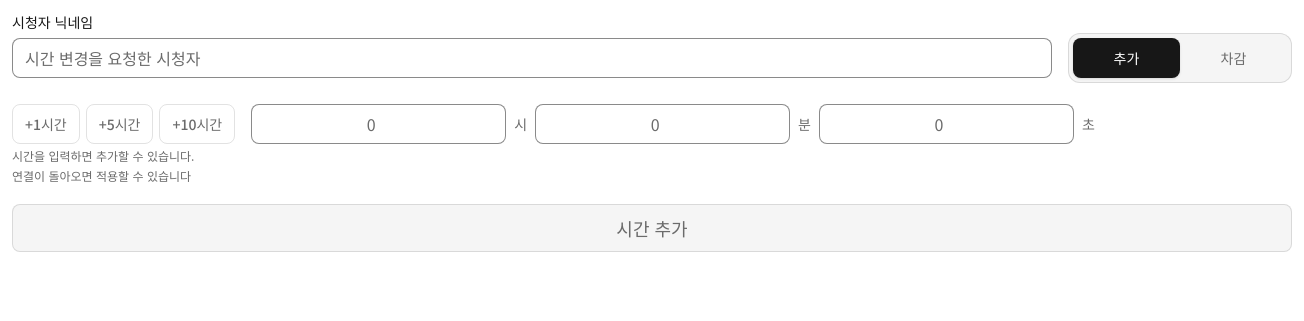
Scenario: TimerControls › 연결이 끊기면 안내 줄만 바뀌고 버튼은 그대로 활성이다
Step 1. Type "시청자A" into the field labelled "시청자 닉네임" → (532, 58), box [12, 38, 1052, 78]
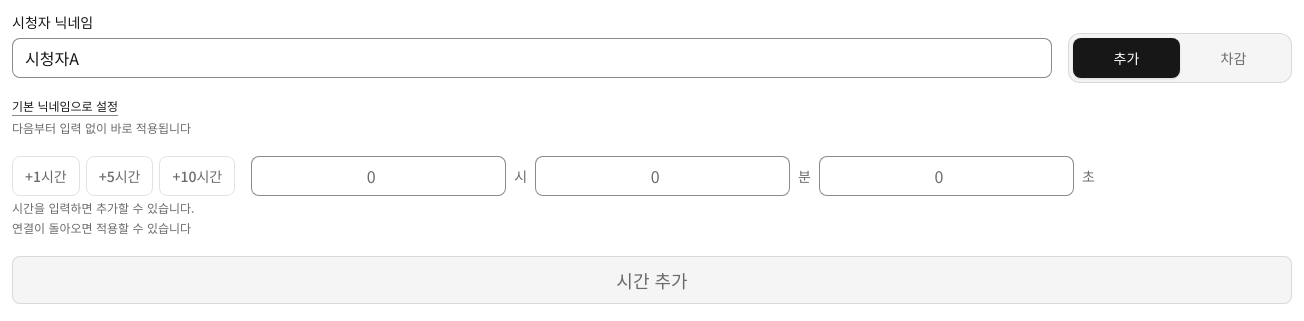
Expected: the text "연결이 돌아오면 적용할 수 있습니다" is shown, [12, 219, 191, 236]
Step 2. Type "10" into the number field labelled "분" → (663, 176), box [535, 156, 790, 196]
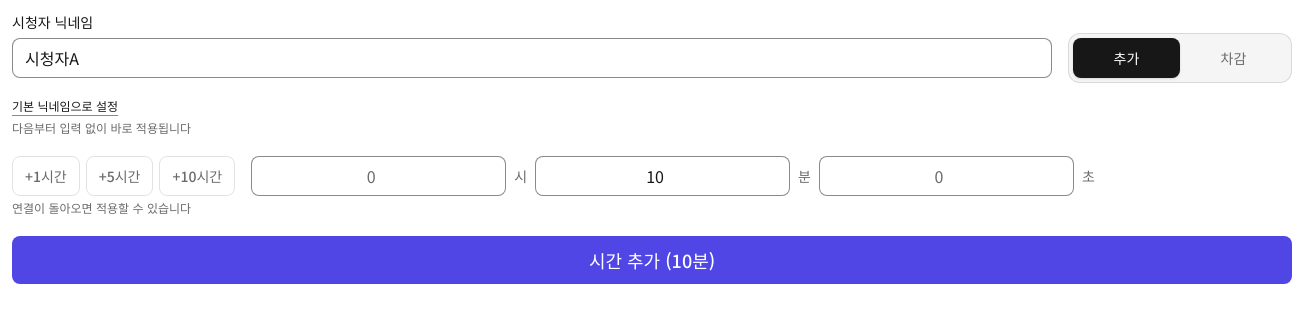
Expected: the text "연결이 돌아오면 적용할 수 있습니다" is shown, [12, 199, 191, 216]
Expected: the button "시간 추가 (10분)" is enabled, [12, 236, 1292, 284]
